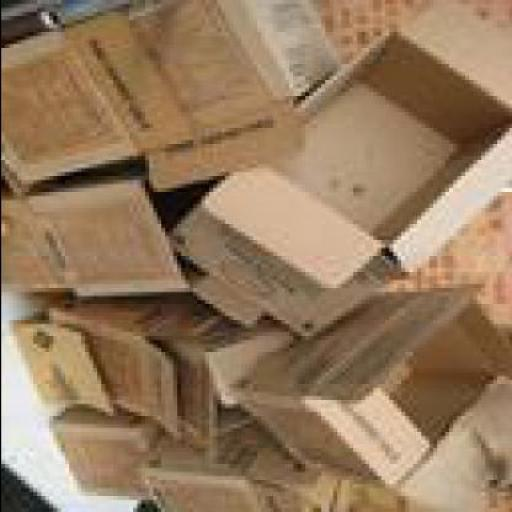cardboard: (178, 0, 511, 330), (180, 0, 507, 332), (240, 280, 511, 476), (68, 0, 340, 185), (4, 28, 132, 188), (48, 296, 183, 436), (44, 172, 192, 296), (44, 400, 168, 492), (140, 416, 264, 508), (16, 312, 108, 424), (4, 188, 72, 288), (248, 448, 348, 508)
